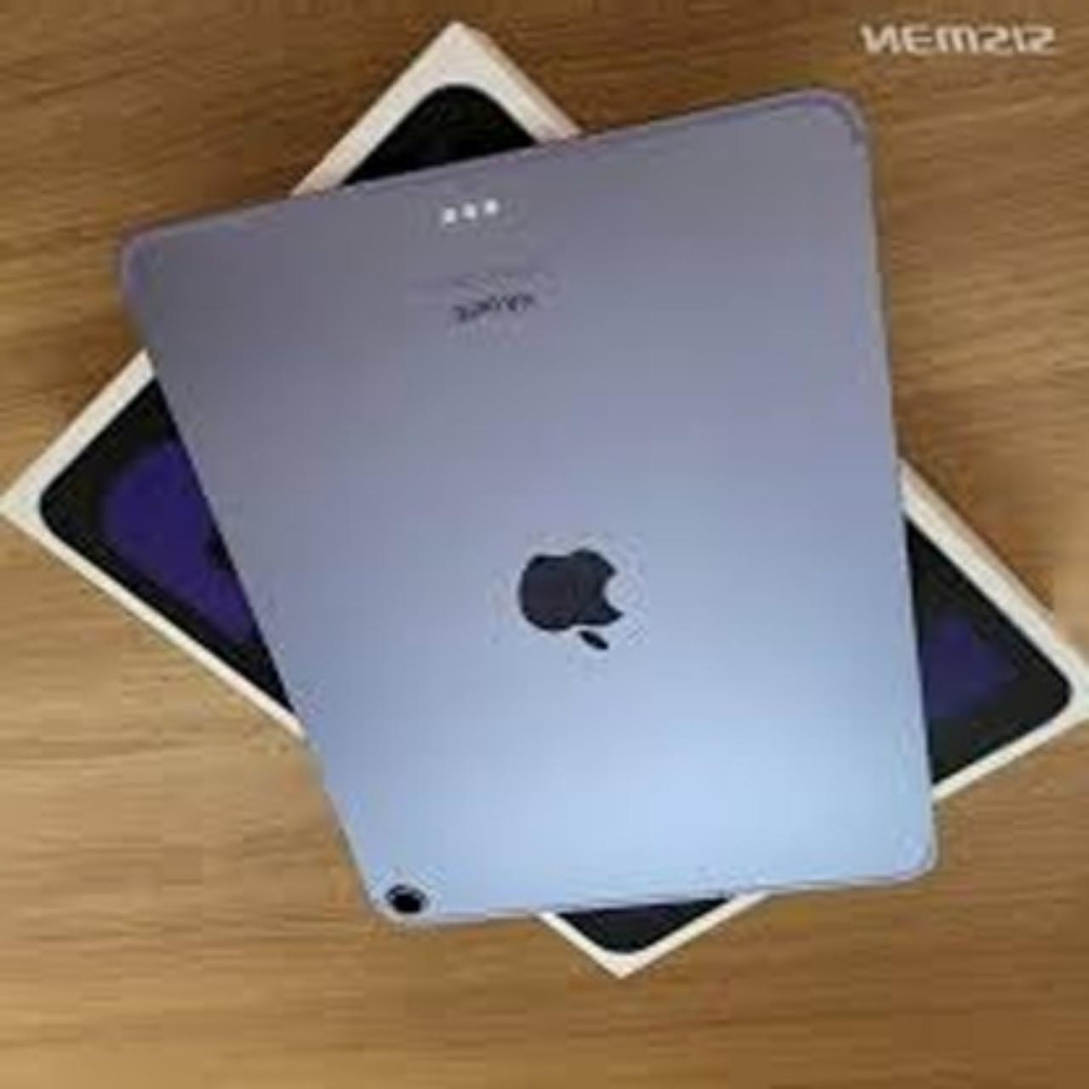Tablet_PC: (113, 58, 952, 943)
